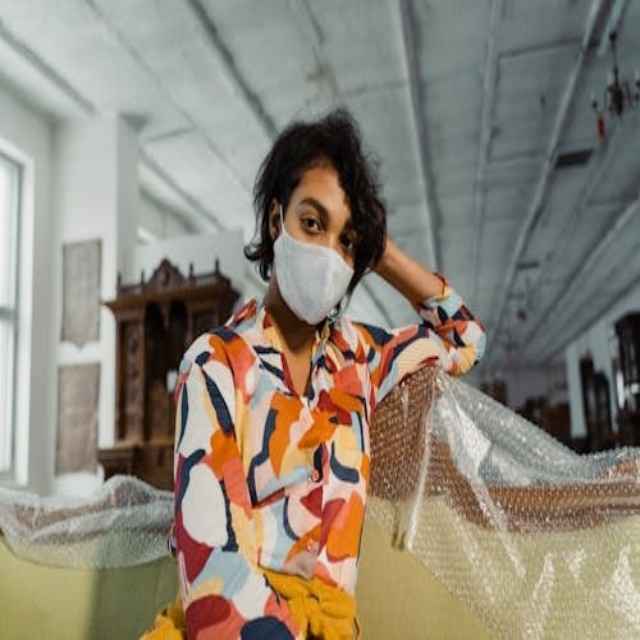Mascara: (273, 205, 356, 324)
Sin_gafas: (301, 214, 323, 233), (340, 232, 354, 252)
